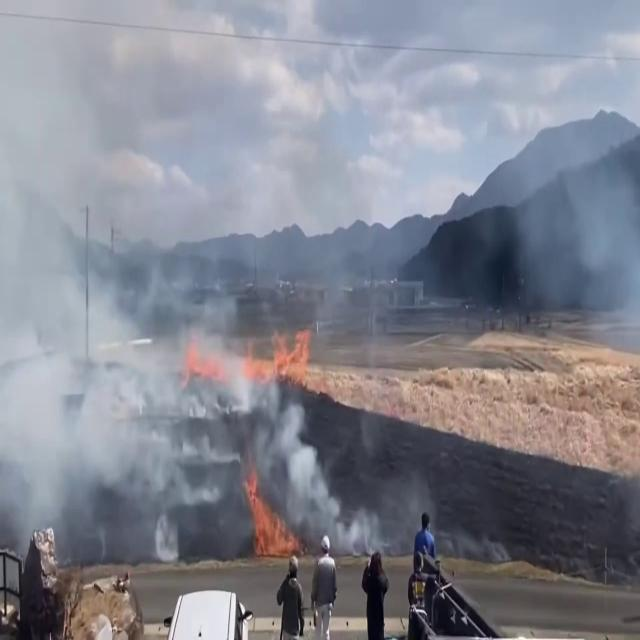Fire: (238, 476, 304, 568)
Smoke: (0, 120, 340, 551), (525, 101, 640, 358)
